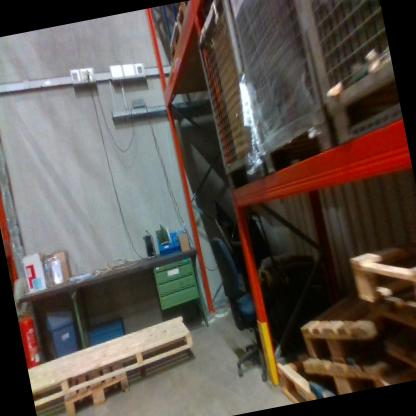pallet: (24, 311, 202, 414), (289, 272, 416, 369), (340, 225, 416, 342), (301, 336, 385, 396), (53, 363, 137, 416), (367, 293, 416, 383), (272, 342, 335, 403), (377, 340, 416, 382), (170, 0, 201, 32), (164, 22, 184, 64)
stillage: (234, 0, 336, 186), (183, 0, 270, 196), (303, 0, 402, 138)
